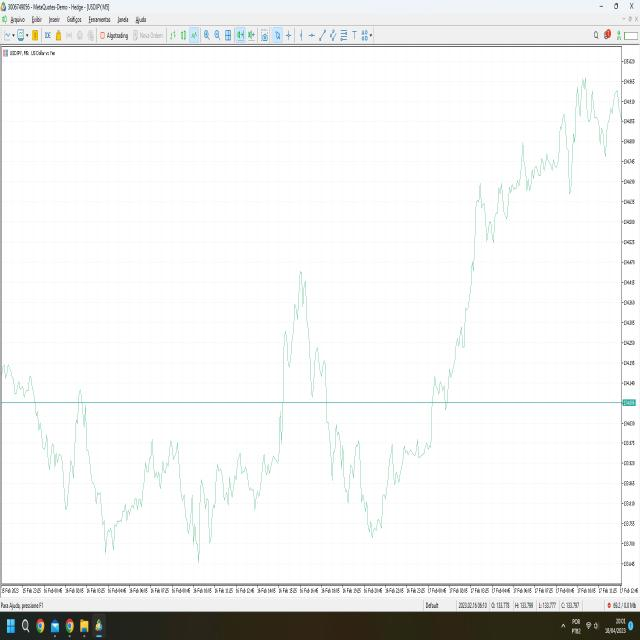bandeira_alta: (254, 437, 280, 526)
oco_inv: (338, 421, 412, 558)
topo_duplo: (135, 436, 191, 560)
